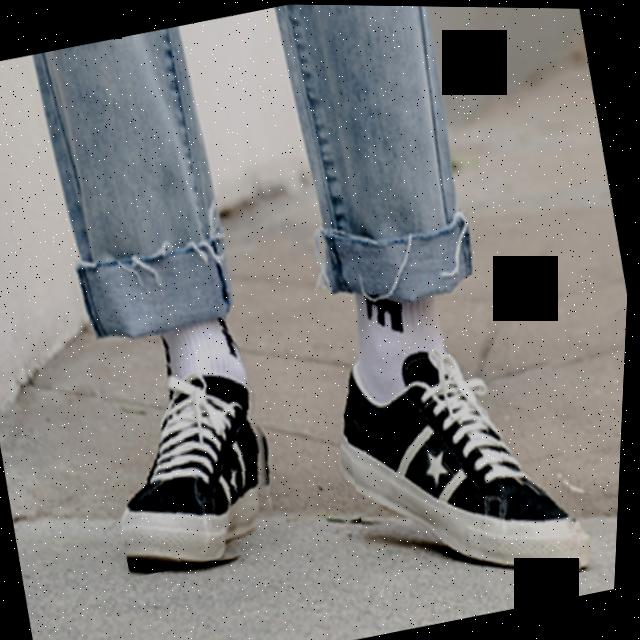shoe: (317, 257, 605, 617), (85, 308, 303, 578)
